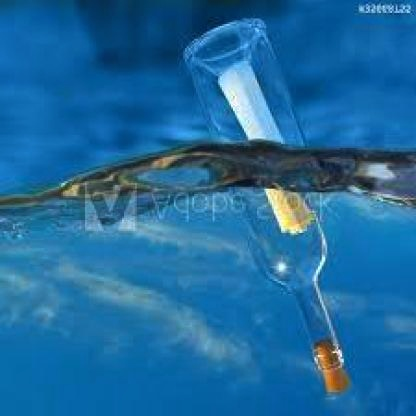gbottle: (187, 17, 353, 403)
